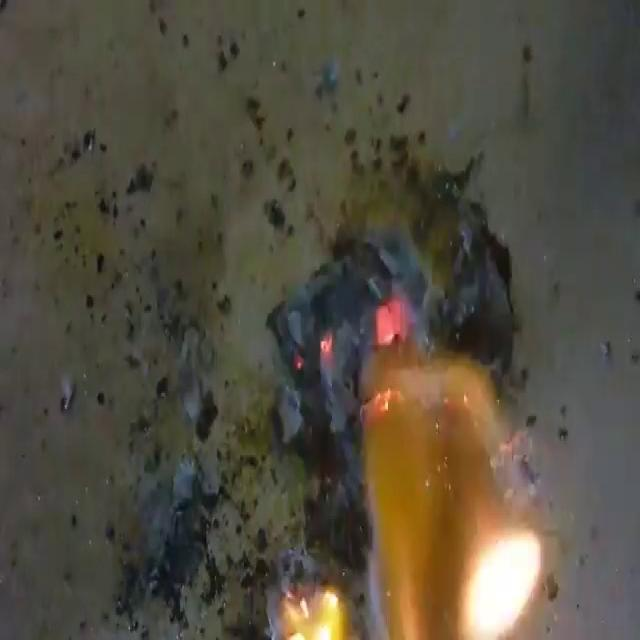Fire: (176, 105, 592, 640)
